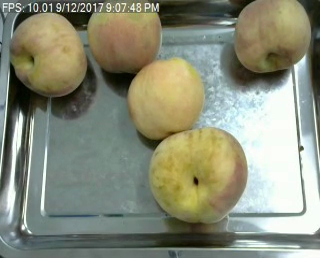Peach: (148, 126, 247, 224), (8, 11, 89, 97), (125, 57, 203, 137), (232, 0, 312, 74), (89, 0, 162, 71)
